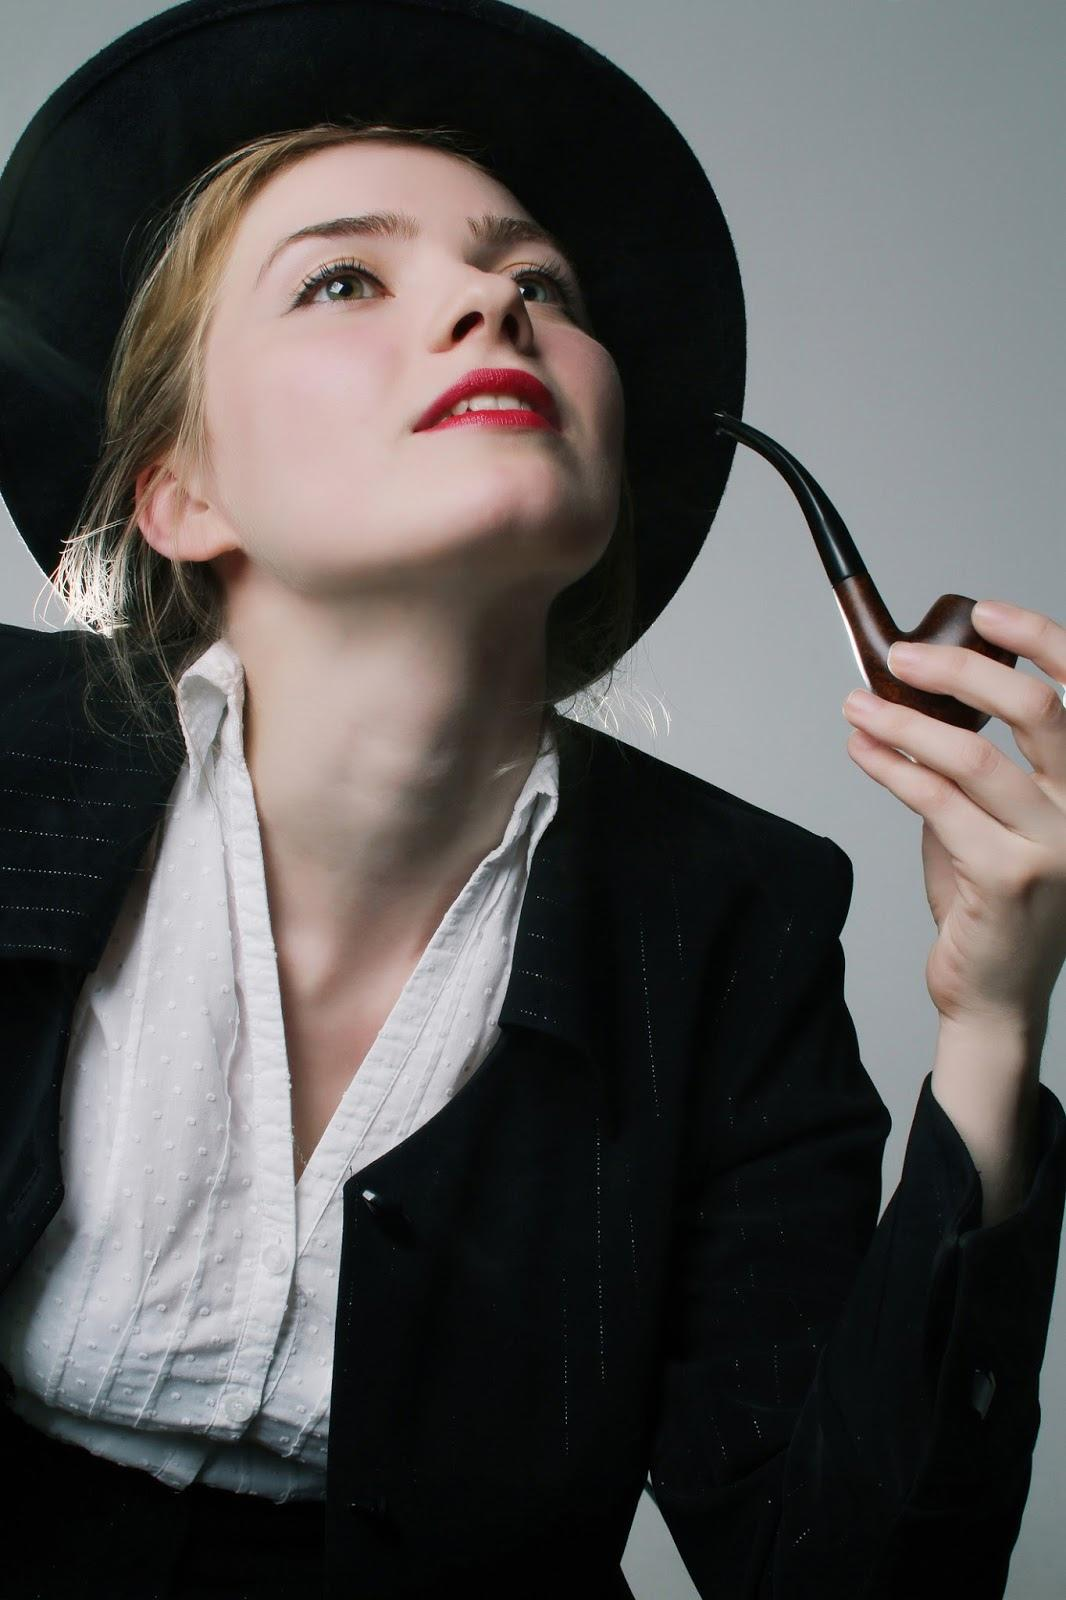trubka: (706, 412, 1021, 733)
